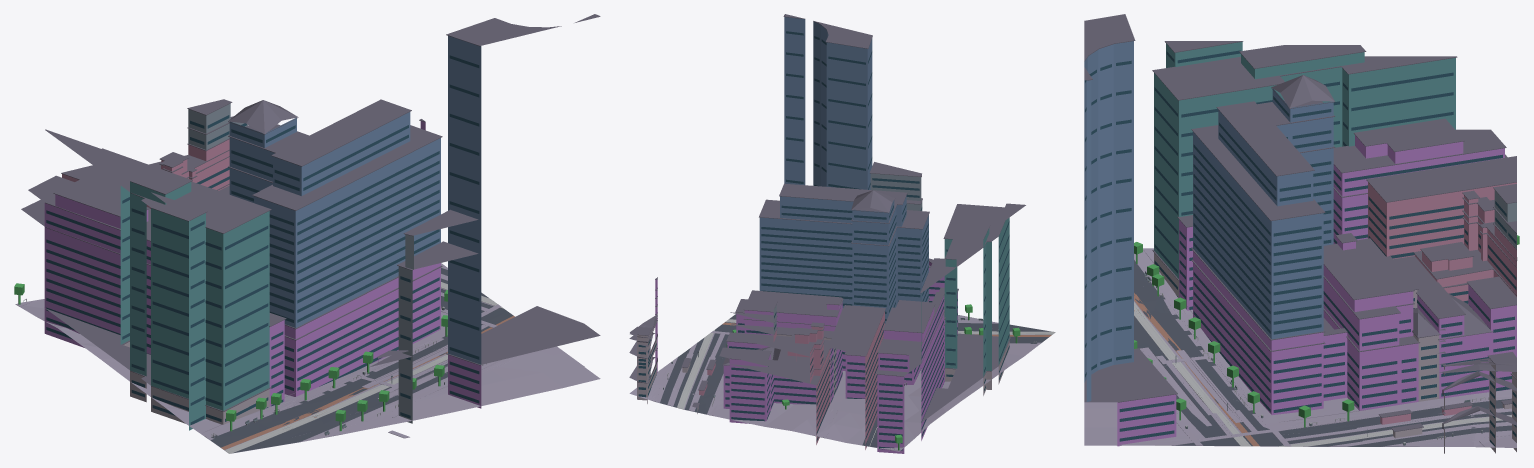
The picture shows the model from 3 angles, left to right: view 1: azimuth 30°, elevation 25°; view 2: azimuth 150°, elevation 25°; view 3: azimuth 270°, elevation 25°; orthographic projection. The views are drawn at different scales.
Visible parts, largest first — view 1: compiled-chunk; view 2: compiled-chunk; view 3: compiled-chunk.
Boxes of the visible parts, bbox=[...] form: compiled-chunk: bbox=[14, 14, 600, 453]; compiled-chunk: bbox=[629, 14, 1055, 453]; compiled-chunk: bbox=[1084, 14, 1519, 453].
Bounding box in the file's own units: 121 × 118 × 121.
